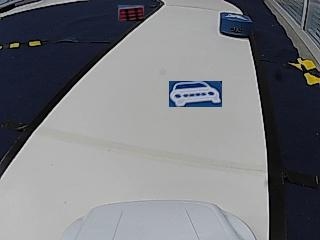prop: (220, 13, 252, 37)
